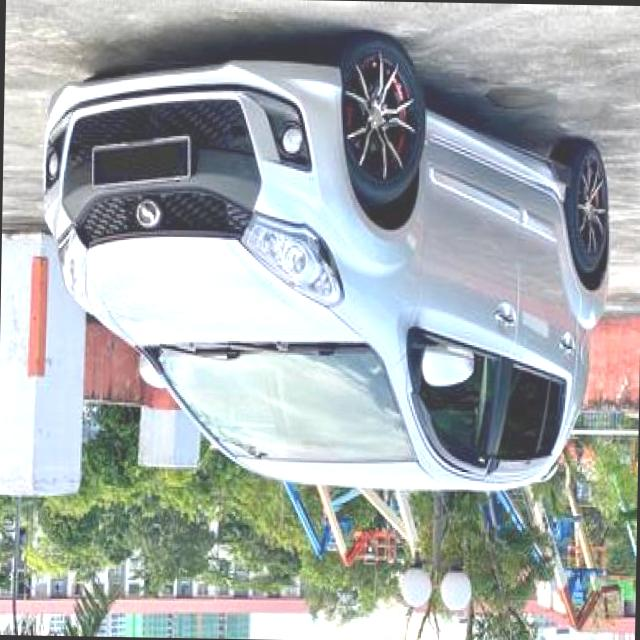PeroduaMyvi: (35, 26, 614, 500)
